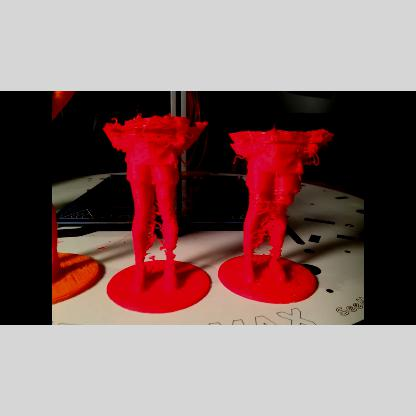fail: (256, 220, 272, 250), (152, 207, 162, 251), (304, 155, 320, 171)
